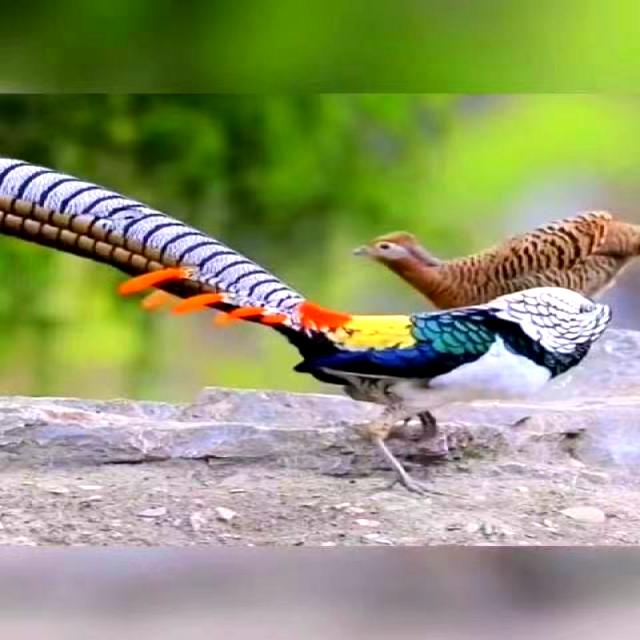Chrysolophus amherstiae: (0, 157, 301, 329)
